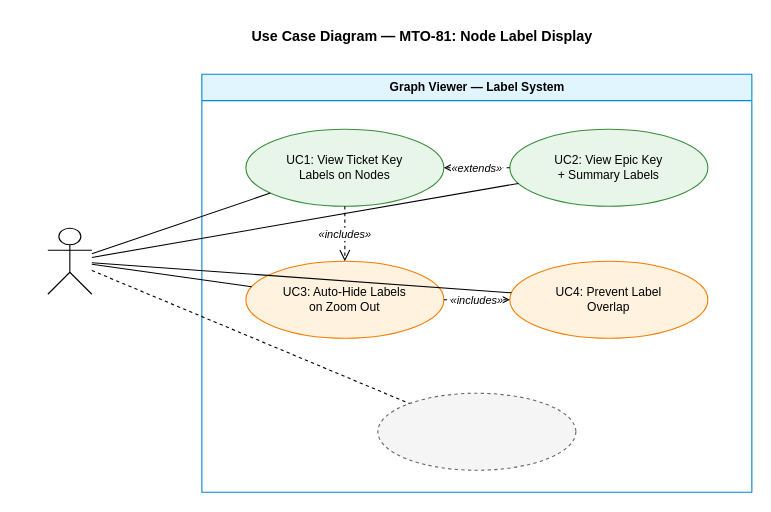
Image size: 771x512. Some labels were removed from this diagram. Here are the shapes that lost their labels. From the top down, the centre of each, then its label:
point 69,260: Graph Viewer User
point 476,431: UC5: Hover Tooltip (Existing - Preserved)
